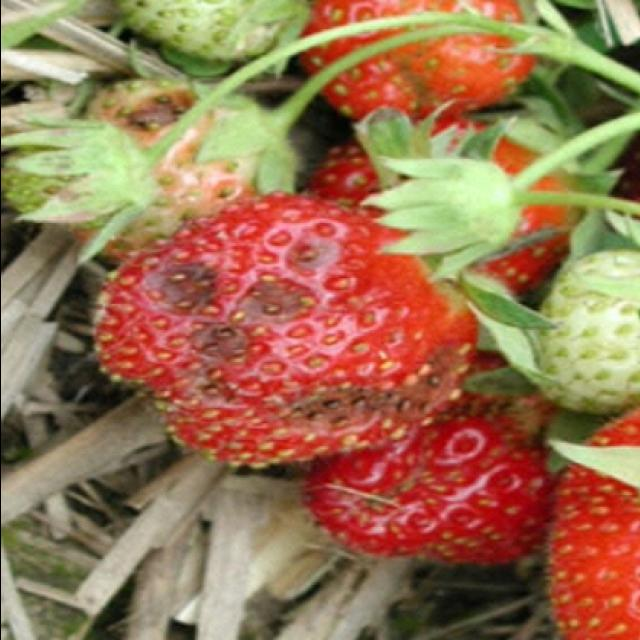Anthracnose Fruit Rot: (386, 349, 450, 426), (290, 387, 371, 431), (241, 280, 295, 336), (121, 82, 179, 134), (151, 269, 207, 307), (187, 331, 241, 357), (192, 372, 222, 402), (291, 246, 322, 266)
